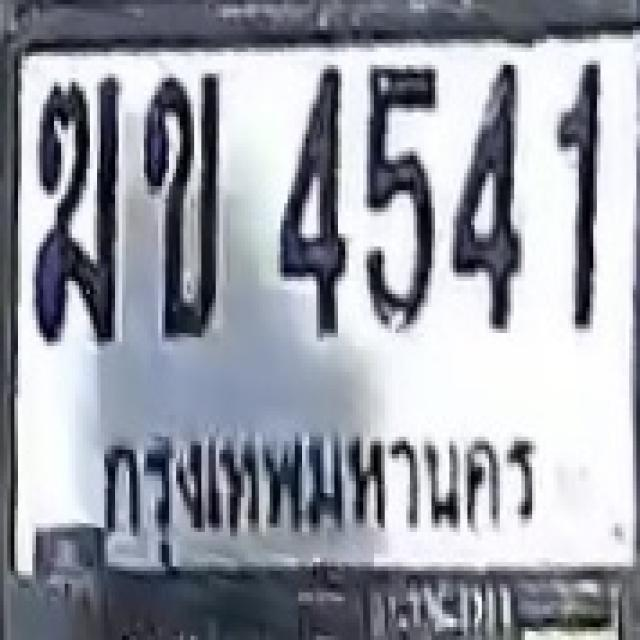-: (32, 74, 119, 342), (140, 69, 220, 333), (32, 104, 119, 342), (30, 147, 117, 342)
1: (552, 65, 602, 290), (554, 70, 600, 312)
4: (449, 60, 522, 328), (277, 63, 345, 331)
5: (363, 65, 439, 329), (363, 62, 439, 222)
BKK: (86, 412, 557, 563)
